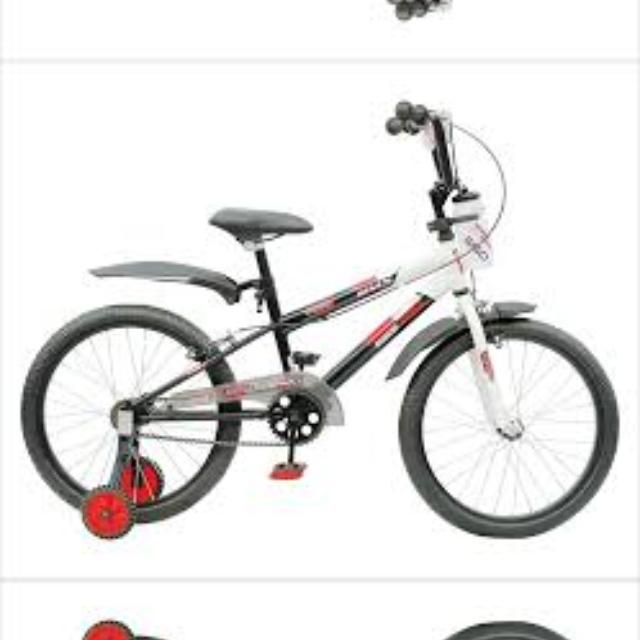obstacle: (18, 74, 620, 552), (18, 0, 619, 45), (18, 607, 619, 640)
